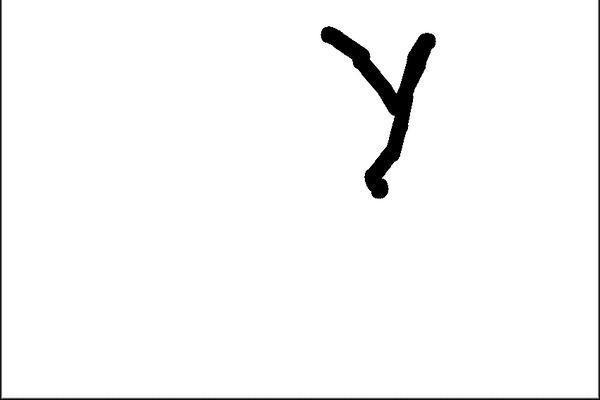Y: (313, 14, 452, 208)
